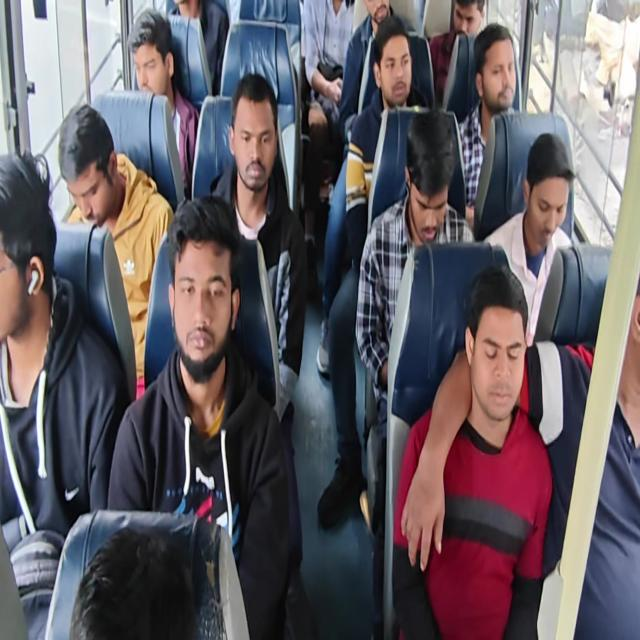person: (64, 524, 206, 640), (162, 177, 233, 385), (0, 148, 59, 350), (463, 260, 528, 433), (51, 99, 127, 224), (401, 104, 458, 246), (517, 125, 576, 258), (227, 70, 282, 196), (128, 9, 180, 106), (475, 17, 523, 112), (368, 17, 415, 112), (614, 273, 640, 410), (455, 2, 488, 31), (363, 1, 400, 22)
